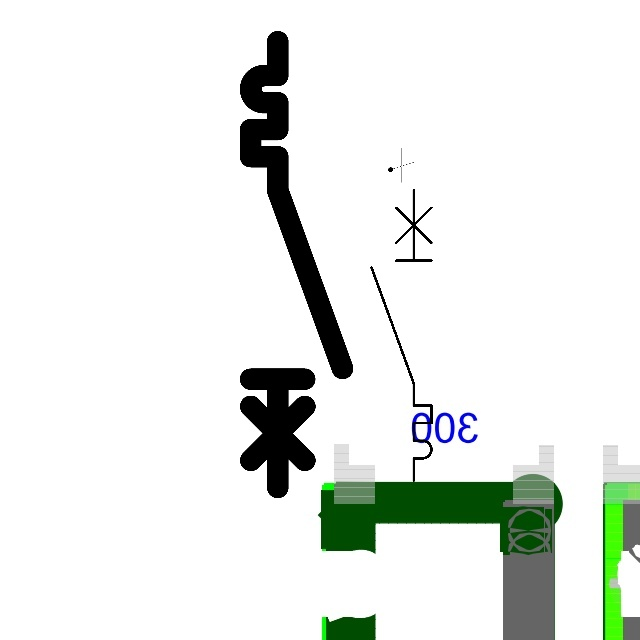interruptor_termomagnetico: (239, 30, 354, 499), (364, 182, 439, 488)
